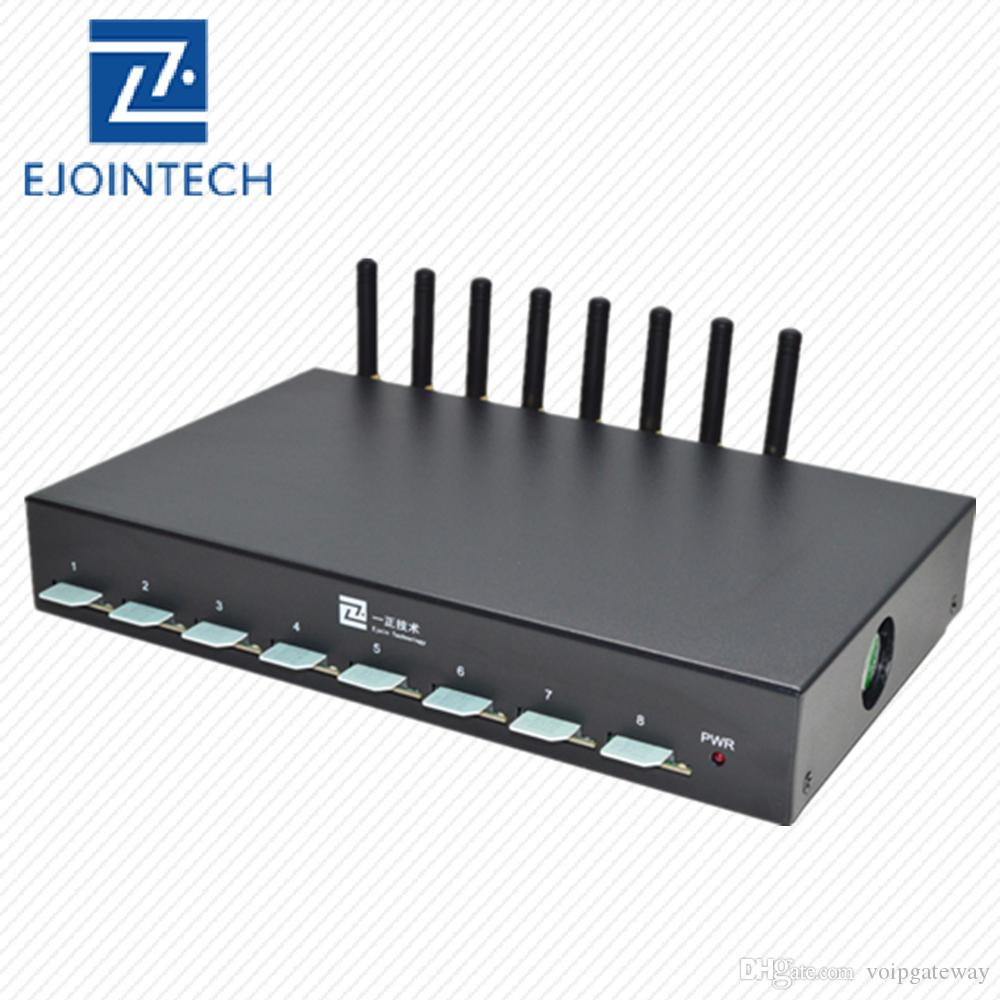SMS Gateway: (11, 249, 1000, 854)
